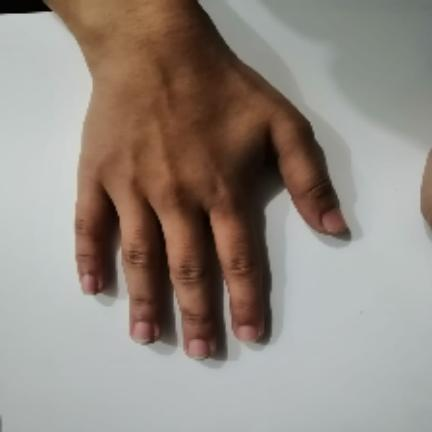Nail: (322, 210, 346, 233), (133, 321, 155, 345), (189, 339, 210, 361), (237, 325, 258, 342), (81, 274, 98, 295)
